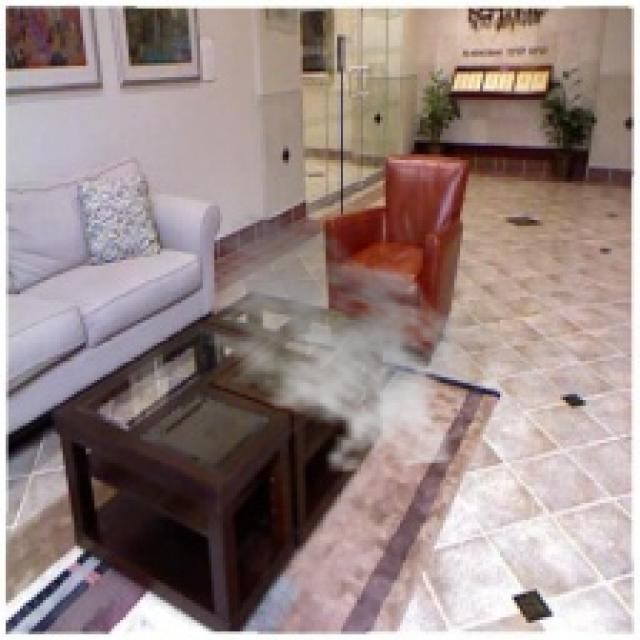smoke: (188, 212, 468, 474)
